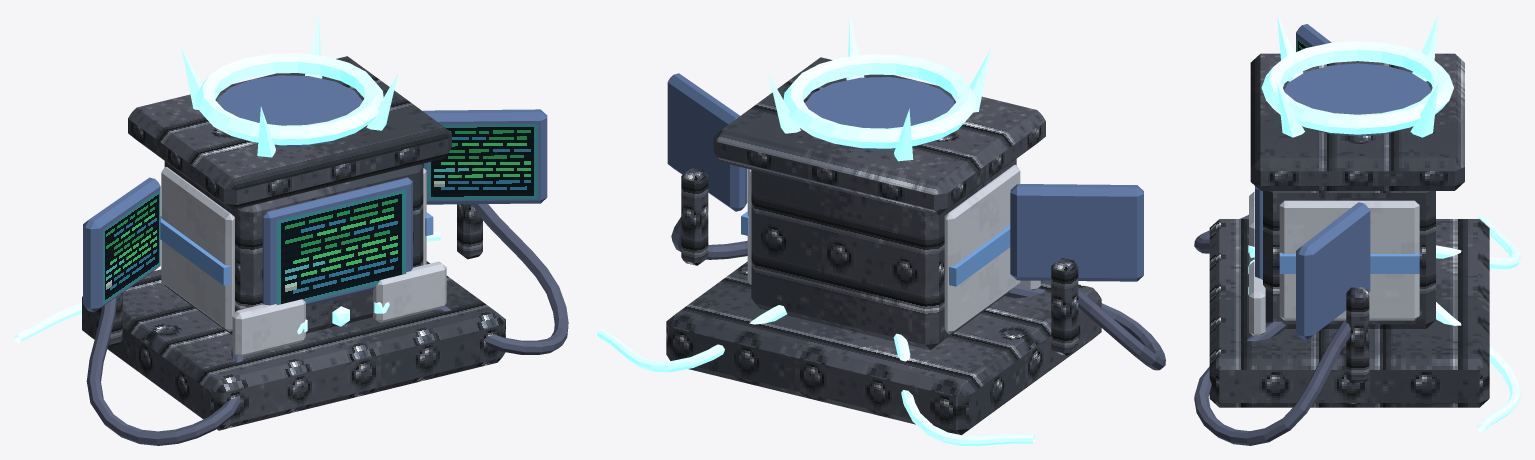
File: porygon.glb
3 renders of one model, left to right at view 1: azimuth 30°, elevation 25°; view 2: azimuth 150°, elevation 25°; view 3: azimuth 270°, elevation 25°, orthographic. The views are drawn at different scales.
Visible parts, largest first — view 1: Terminal, Display, Cables, Ring, Screen1, Lens, Screen-1, Prongs; view 2: Terminal, Ring, Cables, Lens, Prongs; view 3: Terminal, Ring, Cables, Lens, Prongs.
Boxes of the visible parts, x1=… form: Terminal: x1=82, y1=56, x2=547, y2=430; Display: x1=276, y1=189, x2=406, y2=304; Cables: x1=14, y1=204, x2=568, y2=445; Ring: x1=195, y1=53, x2=383, y2=145; Screen1: x1=427, y1=123, x2=537, y2=199; Lens: x1=217, y1=75, x2=362, y2=146; Screen-1: x1=103, y1=190, x2=160, y2=304; Prongs: x1=181, y1=15, x2=397, y2=157; Terminal: x1=666, y1=57, x2=1143, y2=435; Ring: x1=783, y1=54, x2=976, y2=148; Cables: x1=597, y1=217, x2=1165, y2=445; Lens: x1=805, y1=77, x2=954, y2=150; Prongs: x1=768, y1=14, x2=990, y2=161; Terminal: x1=1209, y1=24, x2=1489, y2=407; Ring: x1=1261, y1=41, x2=1453, y2=134; Cables: x1=1194, y1=214, x2=1520, y2=445; Lens: x1=1284, y1=63, x2=1431, y2=136; Prongs: x1=1277, y1=14, x2=1438, y2=137.
Size of the model in its own units: 3.33 by 1.95 by 1.98.
Materials: 7 (3 with a texture image).
